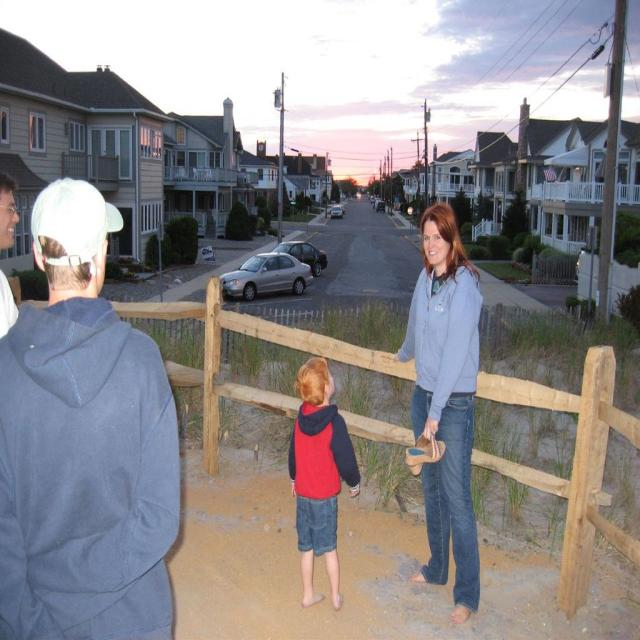car: (218, 252, 312, 302), (331, 202, 345, 219), (376, 200, 386, 212)
